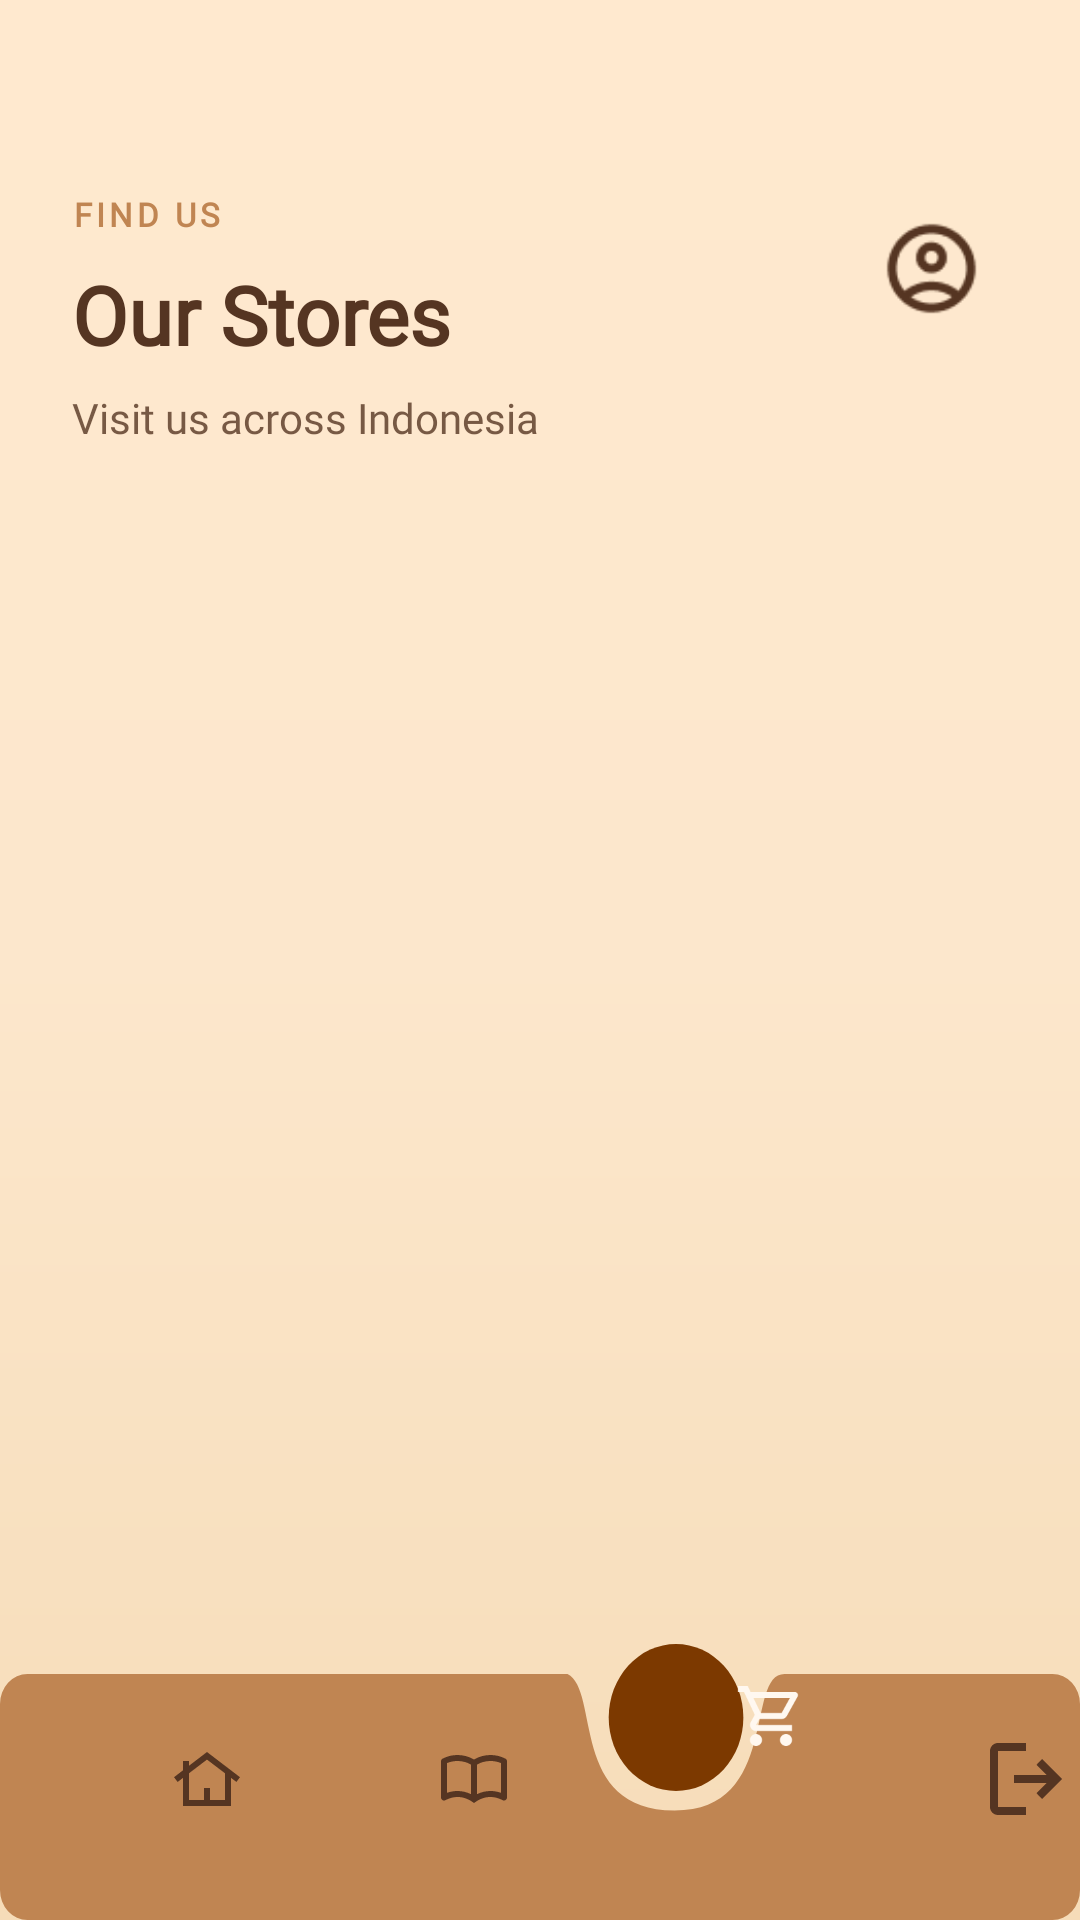

Screen size 1080px x 1920px. Icon name, then its box in pixels as (x1, y1, x2, y2):
account circle: (887, 224, 976, 313)
Books: (441, 1755, 507, 1803)
Home: (174, 1752, 240, 1806)
